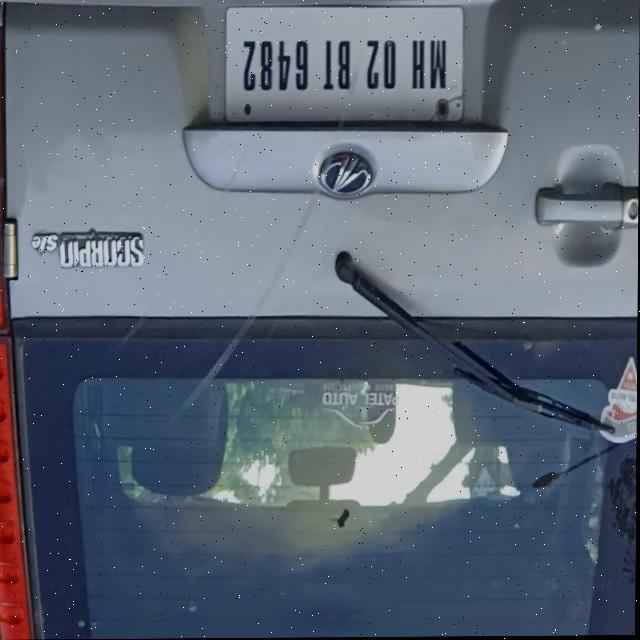plate: (225, 6, 465, 129)
